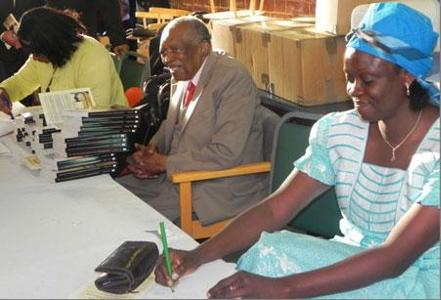person: (155, 5, 441, 300)
